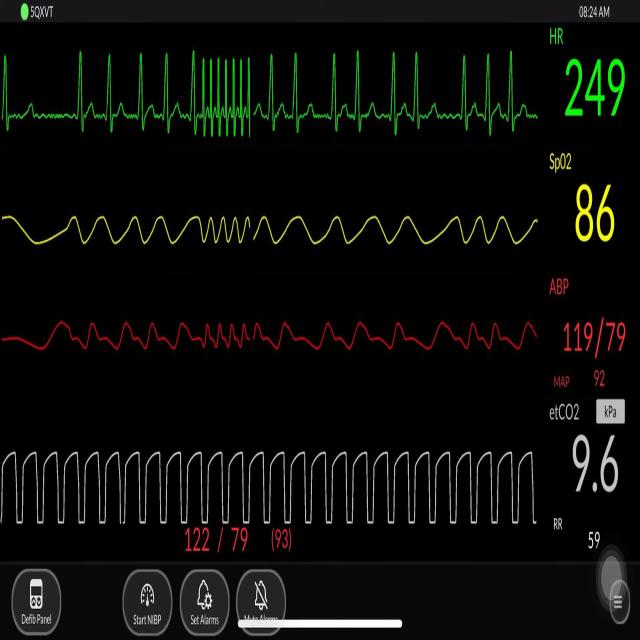danger: (197, 43, 255, 150)
